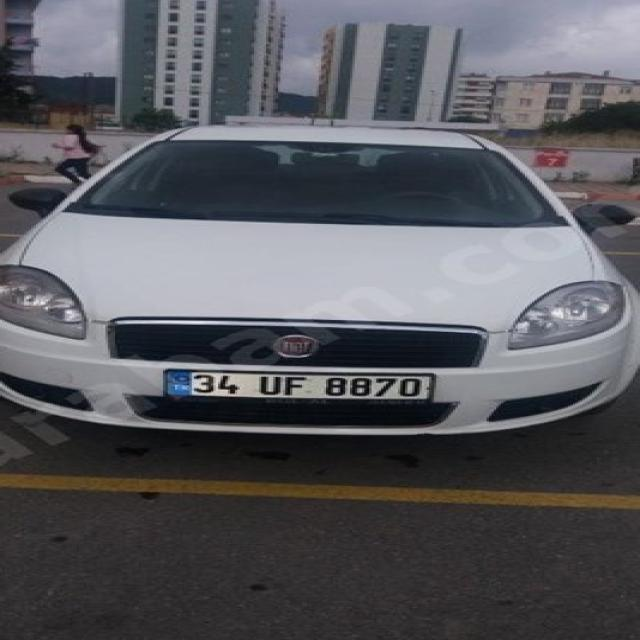license_plate: (163, 369, 431, 400)
